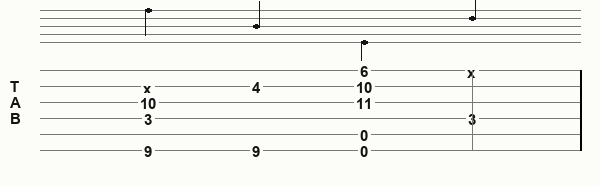0: (360, 127, 372, 142), (360, 143, 372, 158)
10: (140, 95, 160, 110), (356, 79, 376, 94)
11: (356, 95, 376, 110)
3: (144, 111, 156, 126), (468, 111, 480, 126)
4: (252, 79, 264, 94)
6: (360, 63, 372, 78)
9: (144, 143, 156, 158), (252, 143, 264, 158)
x: (143, 80, 156, 92), (467, 64, 480, 76)
